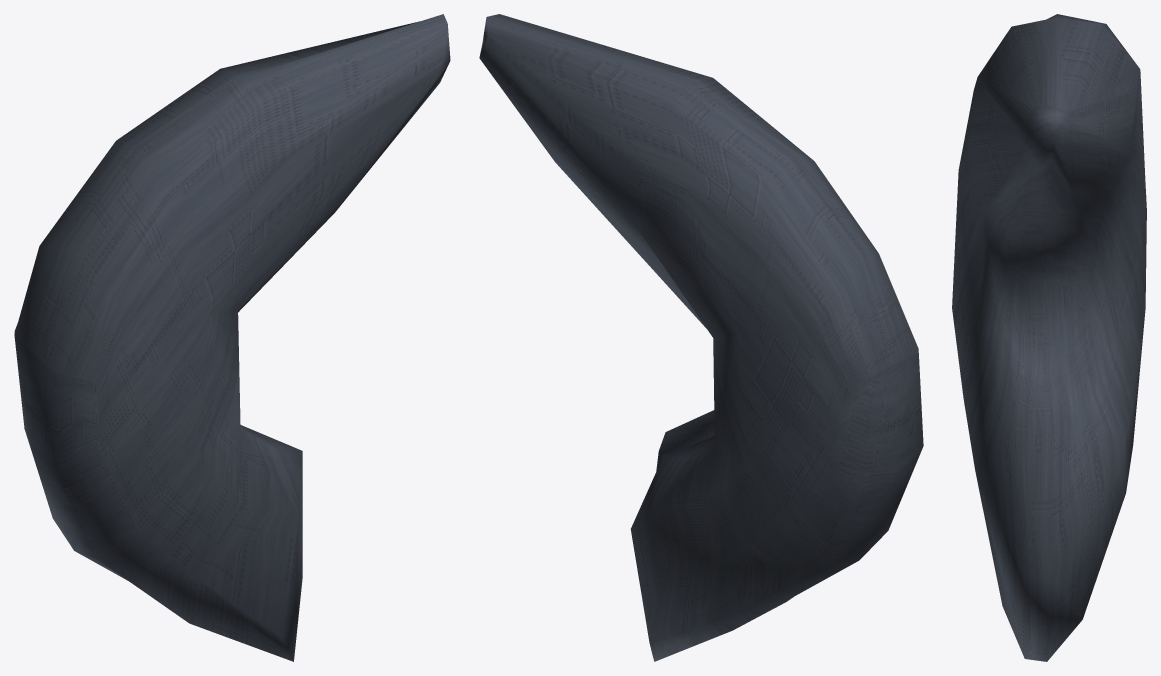
File: Enemy_Ship_1_Piece_1.fbx
The picture shows the model from 3 angles, left to right: view 1: azimuth 30°, elevation 25°; view 2: azimuth 150°, elevation 25°; view 3: azimuth 270°, elevation 25°; orthographic projection. The views are drawn at different scales.
Parts seen in each view (by area): view 1: enemy_ship1_part1; view 2: enemy_ship1_part1; view 3: enemy_ship1_part1.
Part boxes in pixels (left/top/right/bottom): enemy_ship1_part1: left=14, top=14, right=450, bottom=661; enemy_ship1_part1: left=479, top=14, right=923, bottom=661; enemy_ship1_part1: left=952, top=14, right=1146, bottom=661.
Size of the model in its own units: 53.09 by 73.45 by 20.26.
